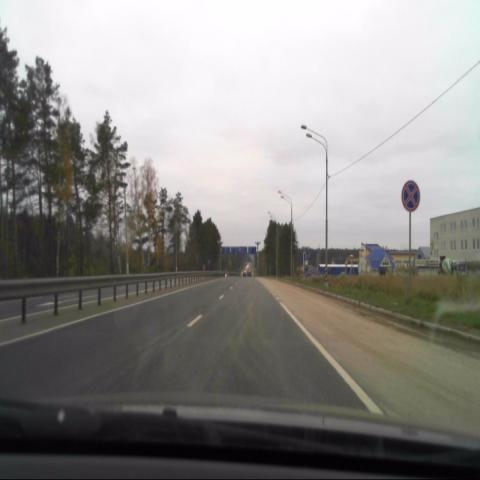3_27: (402, 180, 420, 211)
